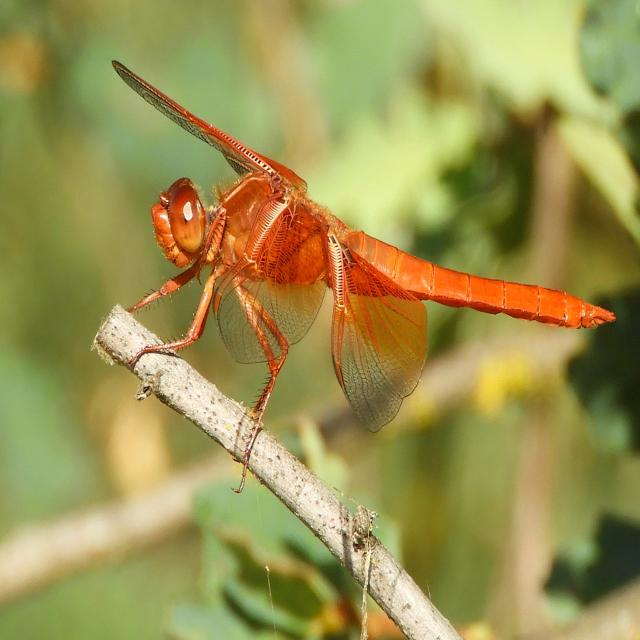dragonfly: (112, 61, 615, 493)
